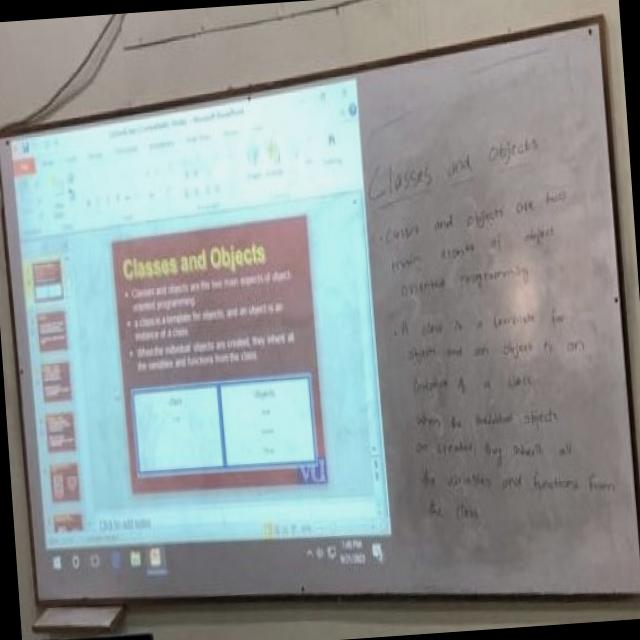Slide: (9, 73, 394, 592)
White-board: (0, 17, 640, 601)
